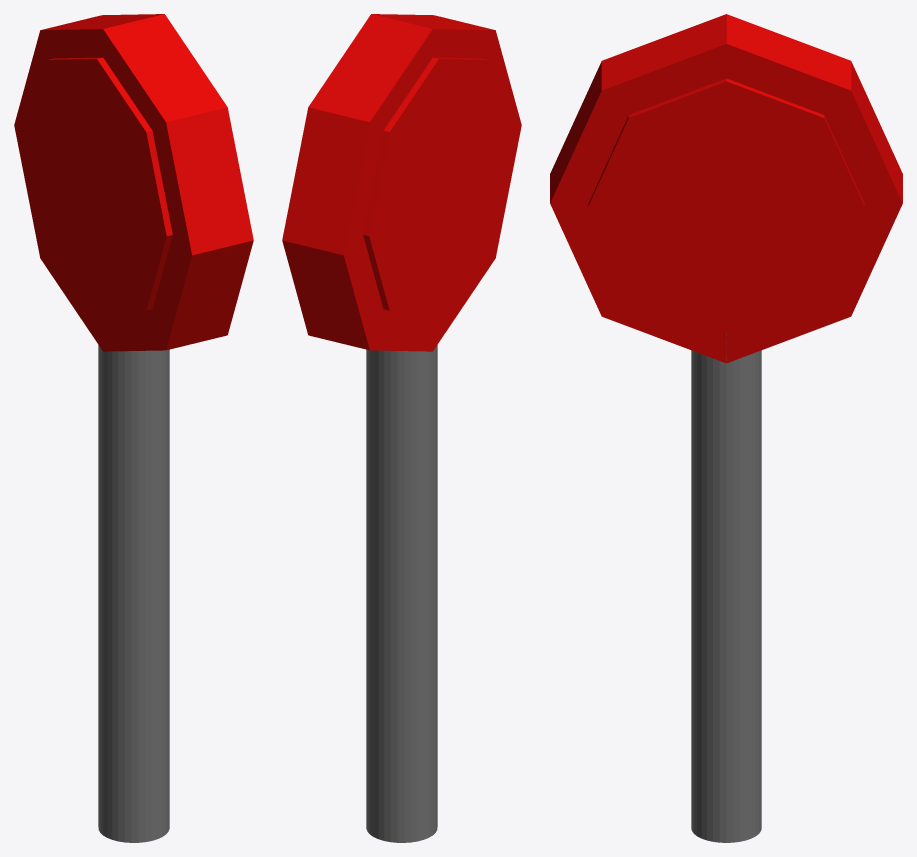
The model's file is StopSign.fbx.
3 views of the same model, side by side, from view 1: azimuth 30°, elevation 25°; view 2: azimuth 150°, elevation 25°; view 3: azimuth 270°, elevation 25° (orthographic).
Visible parts, largest first — view 1: Cylinder.001; view 2: Cylinder.001; view 3: Cylinder.001.
Boxes of the visible parts, box(x1,y1,x2,y2) form: Cylinder.001: box(14, 14, 253, 842); Cylinder.001: box(282, 14, 521, 842); Cylinder.001: box(550, 14, 902, 842).
Size of the model in its own units: 12 by 125 by 50.
